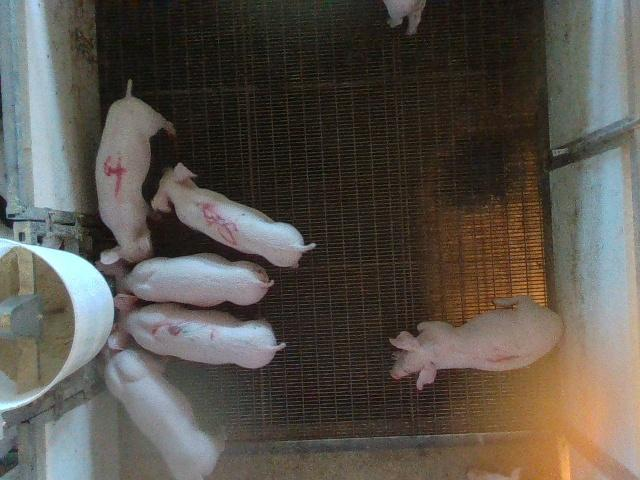pig-1: (390, 295, 562, 389)
pig-3: (109, 294, 285, 368)
pig-4: (96, 81, 175, 265)
pig-5: (151, 162, 315, 267)
